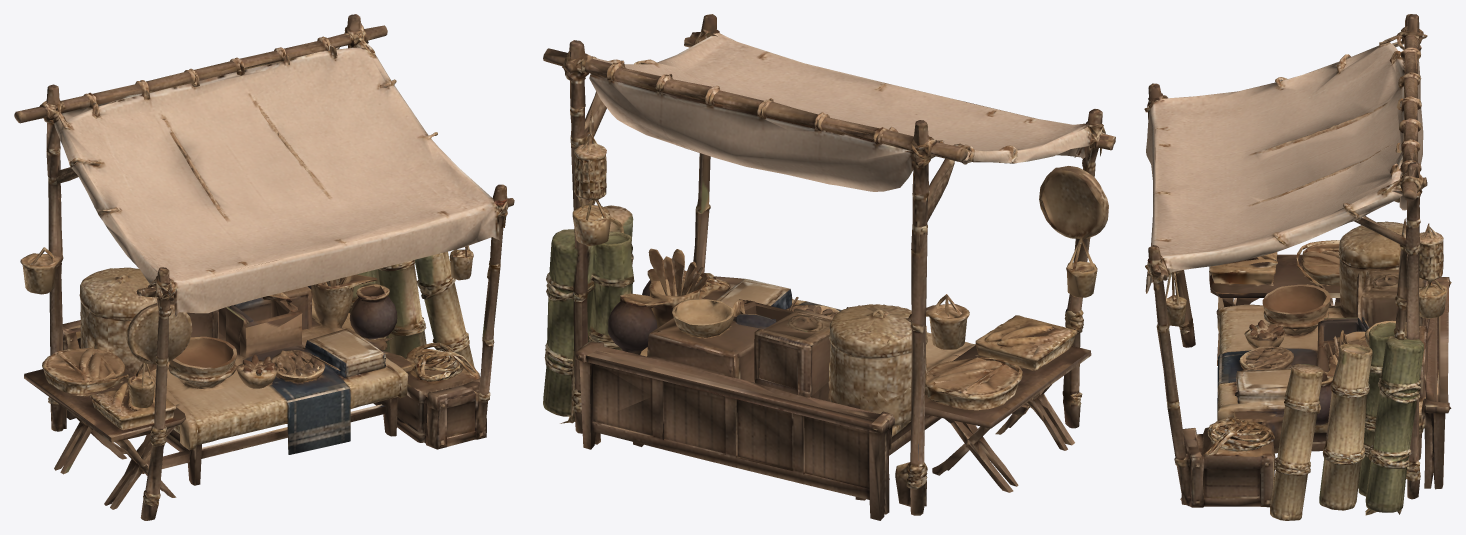
The model's file is 03_General_Goods_Mat_Stall_LOD1.fbx.
3 renders of one model, left to right at view 1: azimuth 30°, elevation 25°; view 2: azimuth 150°, elevation 25°; view 3: azimuth 270°, elevation 25°, orthographic. The views are drawn at different scales.
Parts seen in each view (by area): view 1: 03_General_Goods_Mat_Stall_L1; view 2: 03_General_Goods_Mat_Stall_L1; view 3: 03_General_Goods_Mat_Stall_L1.
Part boxes in pixels (bbox=[...]): 03_General_Goods_Mat_Stall_L1: bbox=[14, 14, 514, 520]; 03_General_Goods_Mat_Stall_L1: bbox=[543, 14, 1115, 520]; 03_General_Goods_Mat_Stall_L1: bbox=[1144, 14, 1451, 520].
Size of the model in its own units: 3.02 by 2.5 by 2.02.
